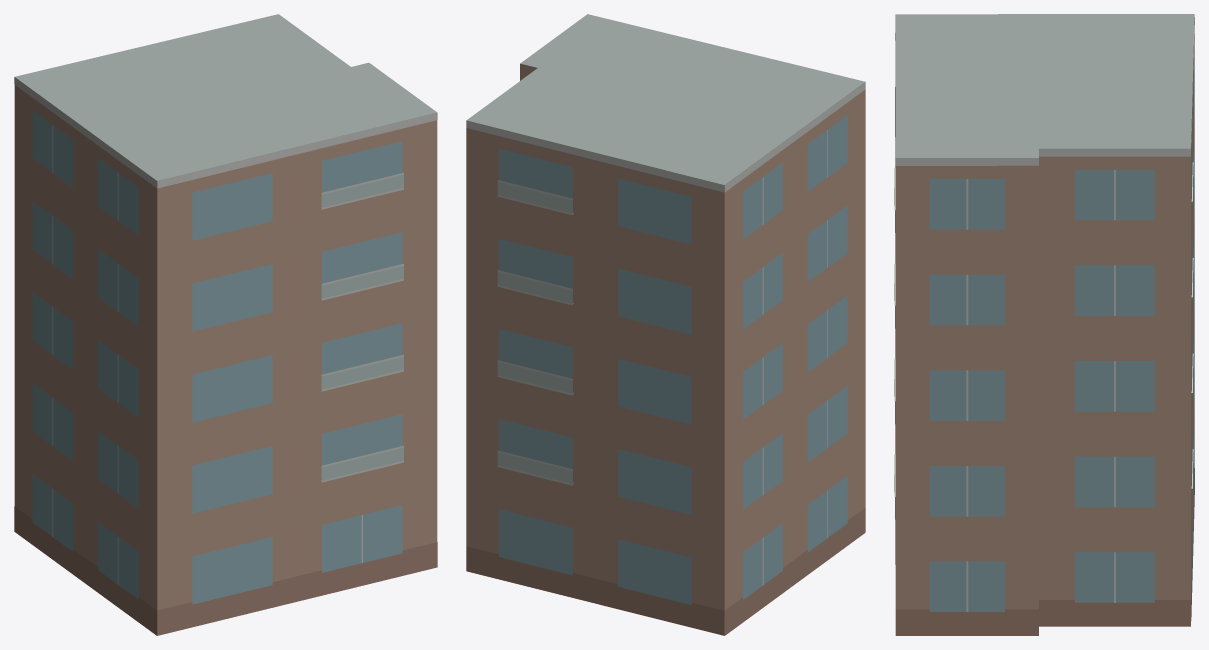
File: survey-upis-32788025.glb
3 views of the same model, side by side, from view 1: azimuth 30°, elevation 25°; view 2: azimuth 150°, elevation 25°; view 3: azimuth 270°, elevation 25° (orthographic). The views are drawn at different scales.
Parts seen in each view (by area): view 1: survey-upis-32788025.tmp; view 2: survey-upis-32788025.tmp; view 3: survey-upis-32788025.tmp.
Boxes of the visible parts, x1,y1,x2,y2 form: survey-upis-32788025.tmp: (14,14,437,635); survey-upis-32788025.tmp: (466,14,865,635); survey-upis-32788025.tmp: (894,14,1194,635).
Size of the model in its own units: 9.51 by 14.7 by 8.39.
